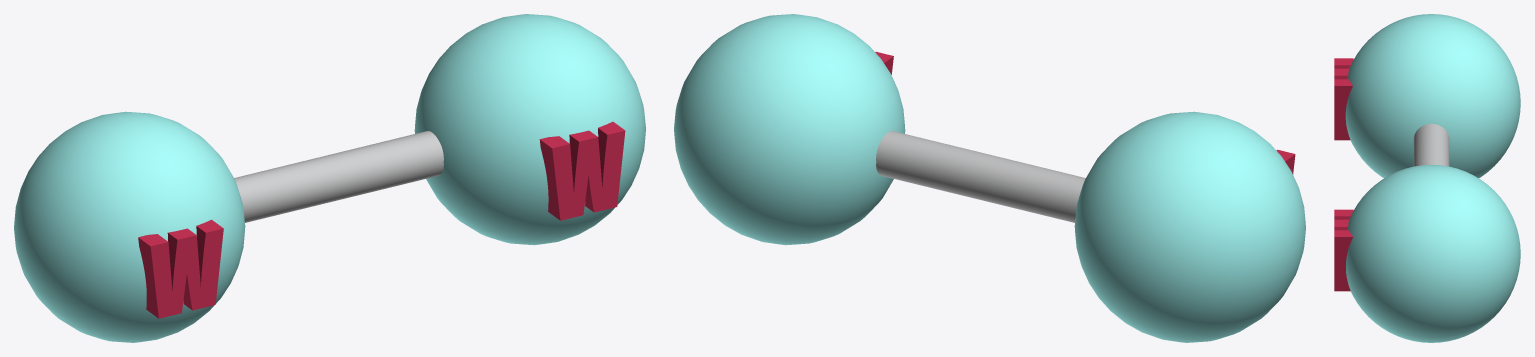
Rendered from asset.glb.
3 views of the same model, side by side, from view 1: azimuth 30°, elevation 25°; view 2: azimuth 150°, elevation 25°; view 3: azimuth 270°, elevation 25° (orthographic). The views are drawn at different scales.
Parts seen in each view (by area): view 1: 3DGeom-1, 3DGeom-2, 3DGeom-5; view 2: 3DGeom-1, 3DGeom-5; view 3: 3DGeom-1, 3DGeom-2, 3DGeom-5.
Part boxes in pixels (x1,y1,x2,y2): 3DGeom-1: [14, 14, 645, 342]; 3DGeom-2: [138, 121, 625, 318]; 3DGeom-5: [234, 131, 443, 222]; 3DGeom-1: [674, 14, 1305, 342]; 3DGeom-5: [876, 131, 1085, 222]; 3DGeom-1: [1345, 14, 1520, 342]; 3DGeom-2: [1334, 58, 1353, 291]; 3DGeom-5: [1413, 124, 1449, 166].
Size of the model in its own units: 0.6 by 0.2 by 0.209.
